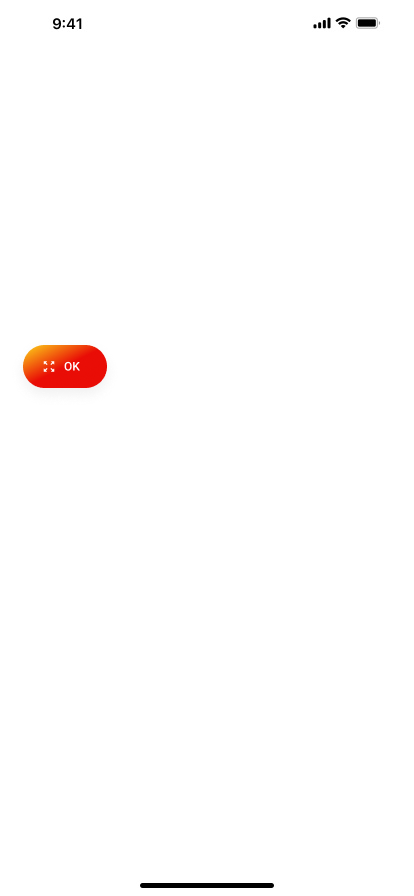Buttons: (8, 336, 122, 409)
Home Indicator: (0, 862, 414, 896)
Status Bar: (0, 0, 414, 44)
